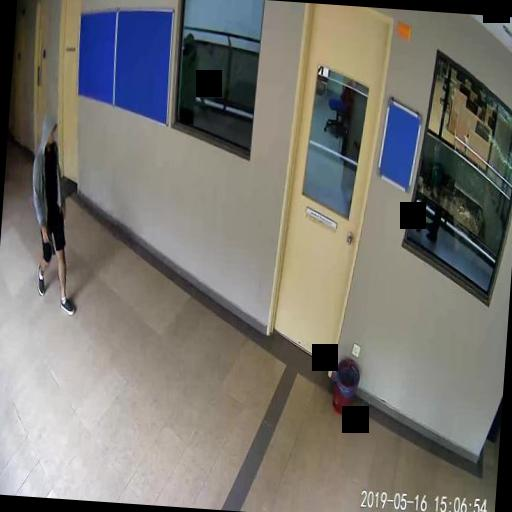Handgun: (40, 228, 54, 255)
